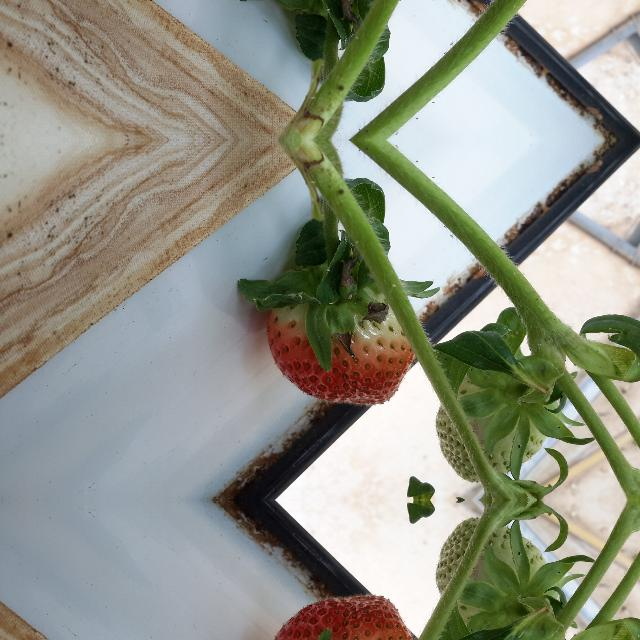Health_100: (265, 298, 415, 402), (265, 597, 415, 640)
Health_25: (434, 346, 546, 482), (434, 517, 546, 640)
